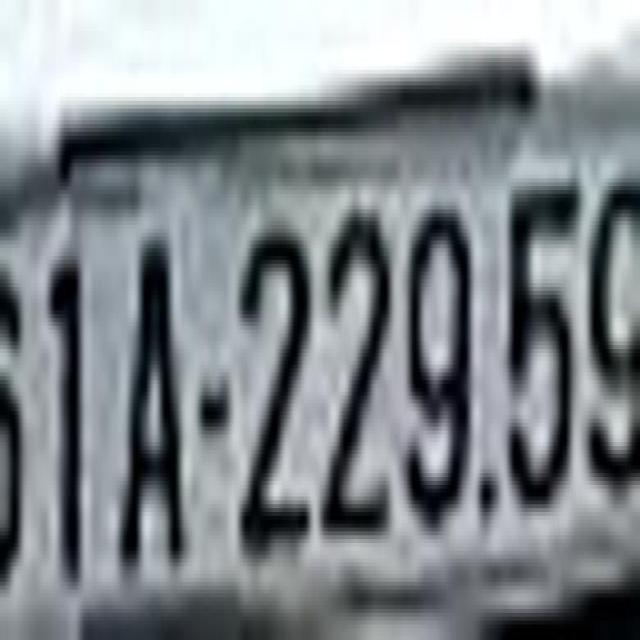1: (46, 234, 89, 592)
2: (237, 204, 312, 560), (320, 188, 392, 545)
5: (505, 151, 579, 516)
6: (0, 250, 25, 592)
9: (406, 176, 471, 534), (586, 145, 640, 502)
A: (118, 215, 188, 576)
